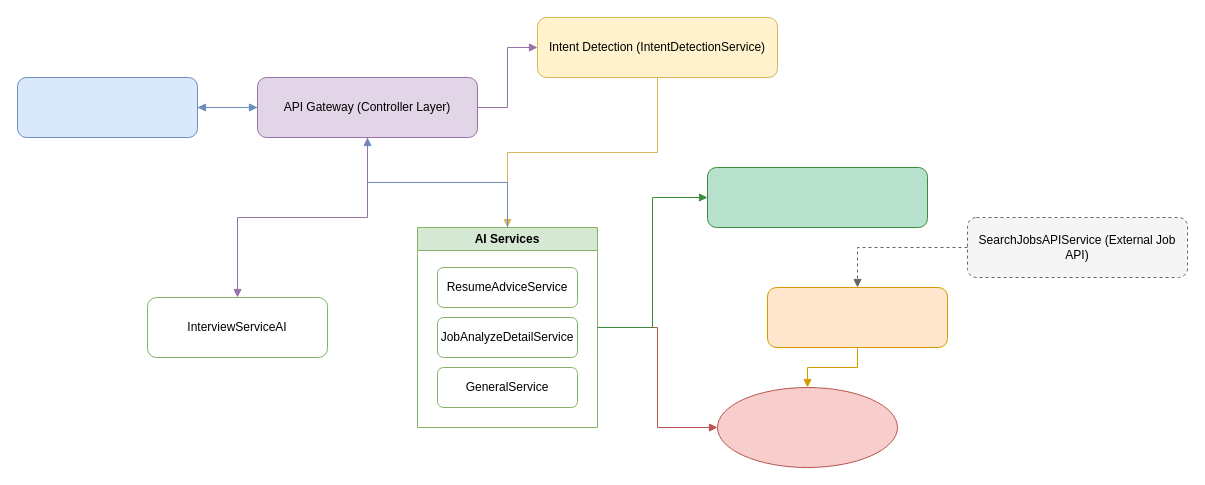
The diagram is 1205 pixels wide and 485 high, and some of its shapes have lost their labels. The centre of each missing label's shape, as x and y in pixels:
"Database (User, Job, Interview, etc.)" belongs at [807,427].
"External LLM Provider (Azure OpenAI)" belongs at [817,197].
"JobSearchedService" belongs at [857,317].
"User Interface (Frontend)" belongs at [107,107].
